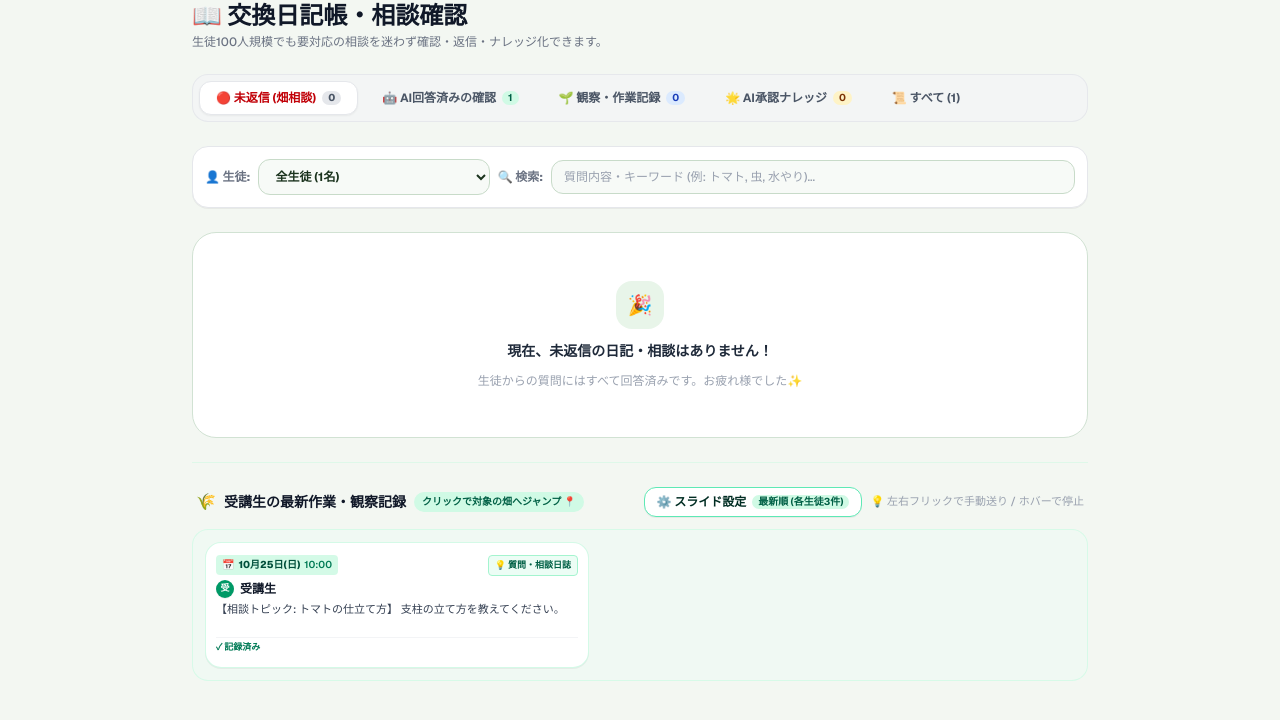
TeacherJournalsView - 返信通知保存エラー時のユーザーフィードバック › handleSaveReply: 返信通知の insert が成功したとき、通常の成功トーストが表示され、警告トーストが出ないこと (回帰検証)
Click the button "📜 すべて (1)" at point(926, 98), box x1=876 y1=82 x2=976 y2=114
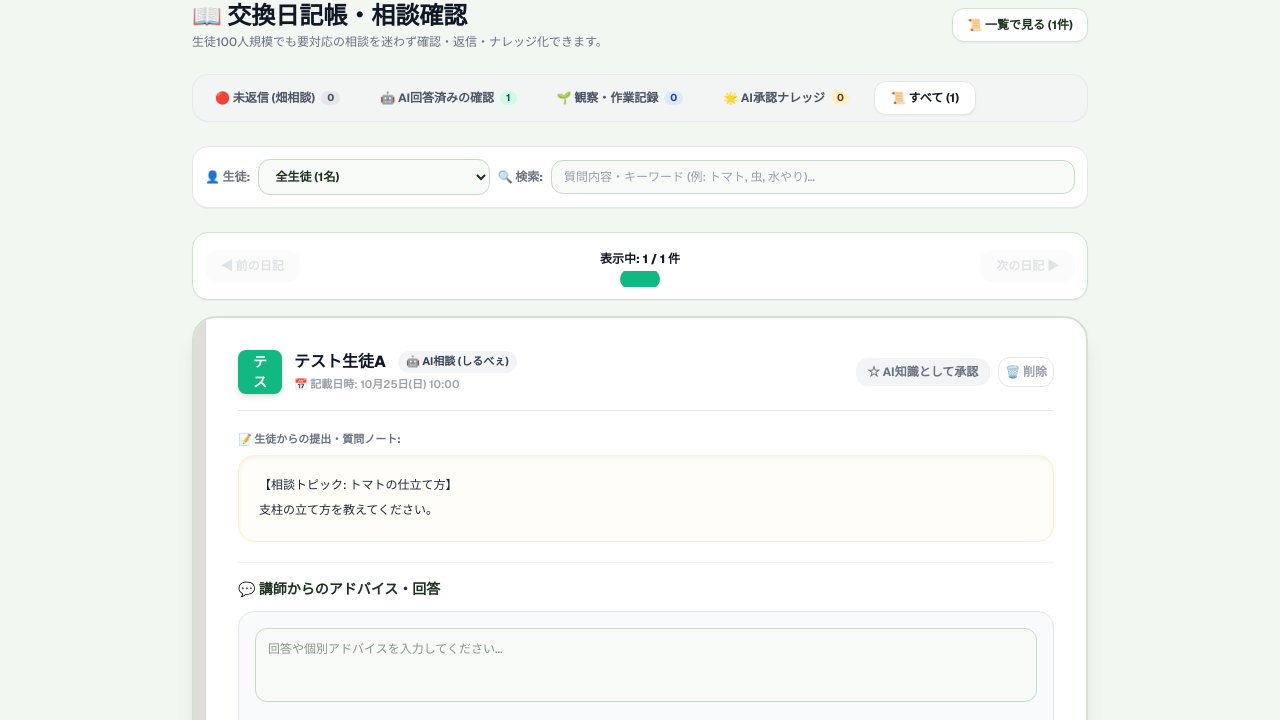
Type "支柱は直立式でも大丈夫です。" into the text box with placeholder "回答や個別アドバイスを入力してください..." at point(646, 665), box x1=255 y1=628 x2=1037 y2=702
(page scrolled)
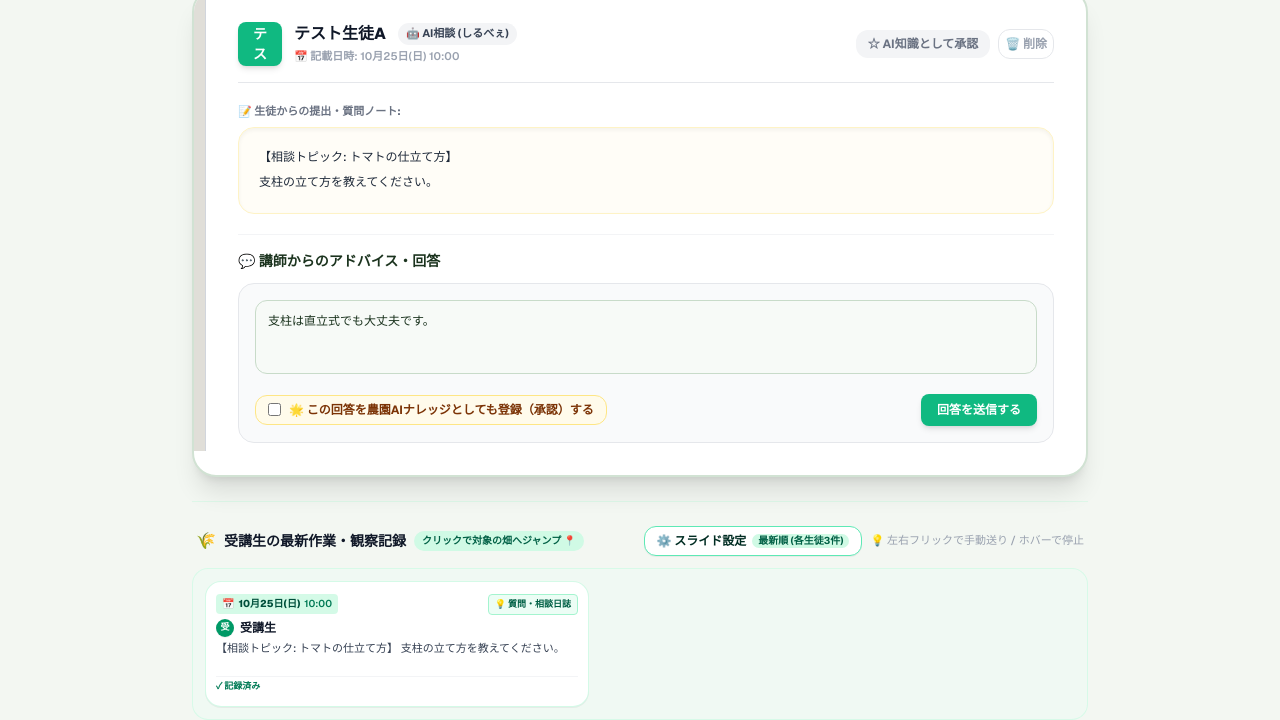
Click the button "回答を送信する" at point(979, 410), box x1=921 y1=394 x2=1037 y2=426
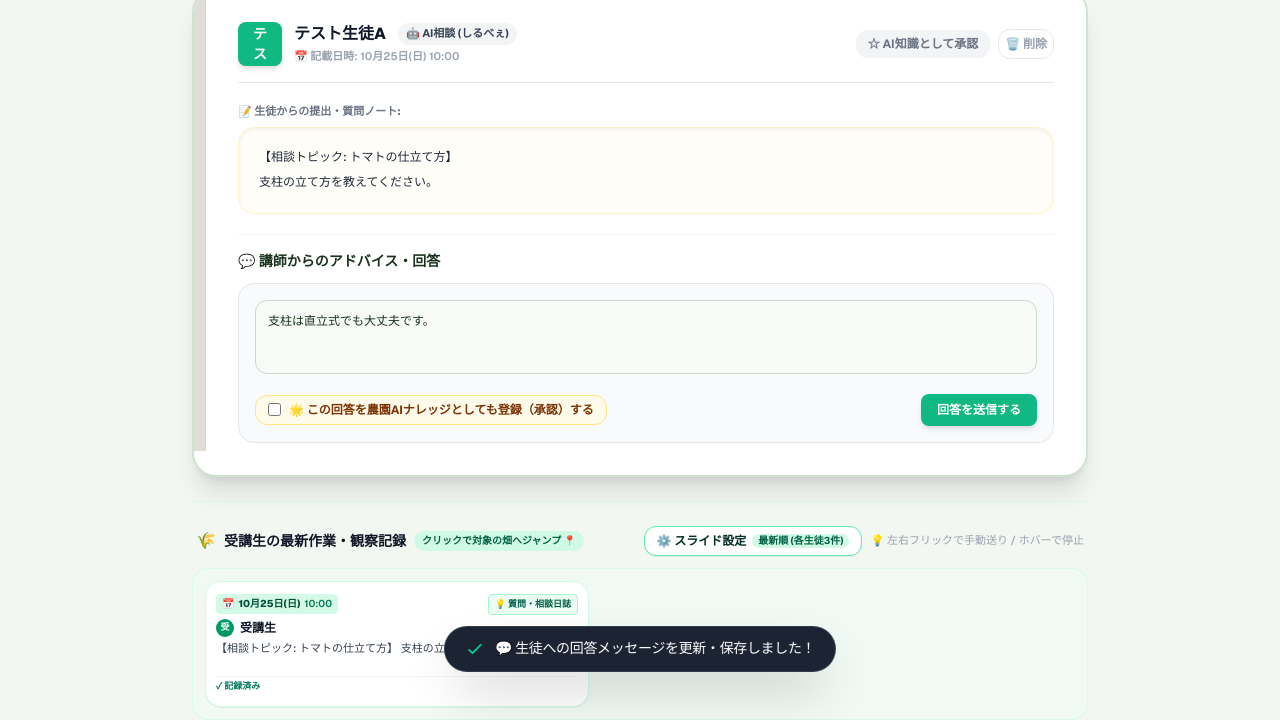
Expected: the text "💬 生徒への回答メッセージを更新・保存しました！" is shown, x1=495 y1=639 x2=815 y2=659
